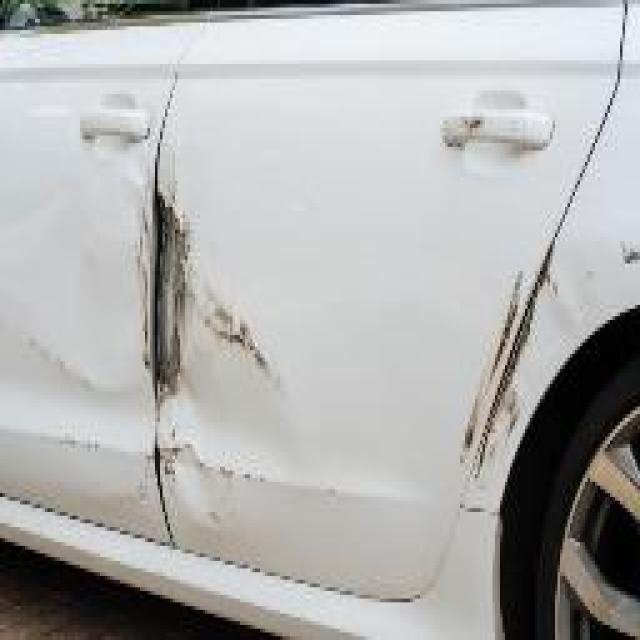Door: (152, 138, 569, 575), (121, 167, 155, 423)
Fender: (462, 213, 640, 511)
